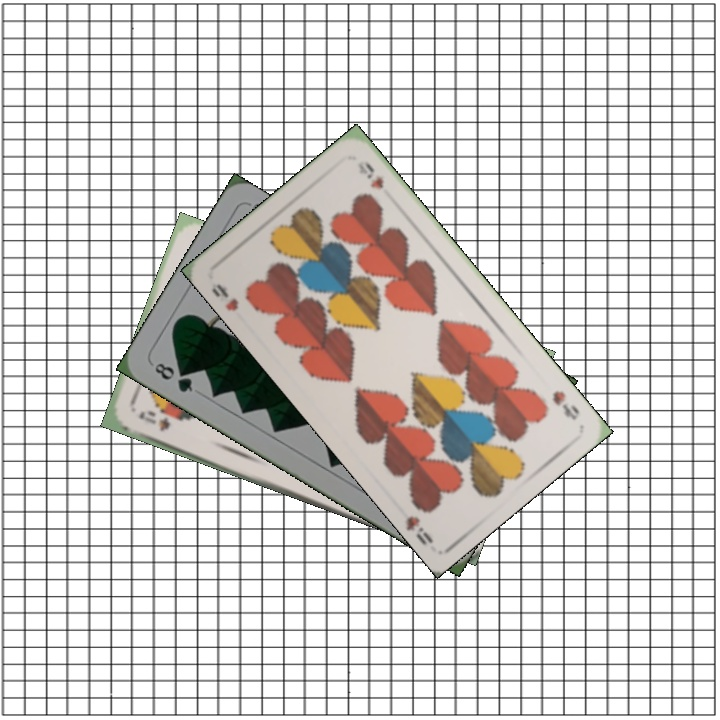G8: (150, 358, 196, 395)
H9: (548, 386, 582, 423), (207, 279, 241, 314)
SO: (134, 406, 173, 434)
